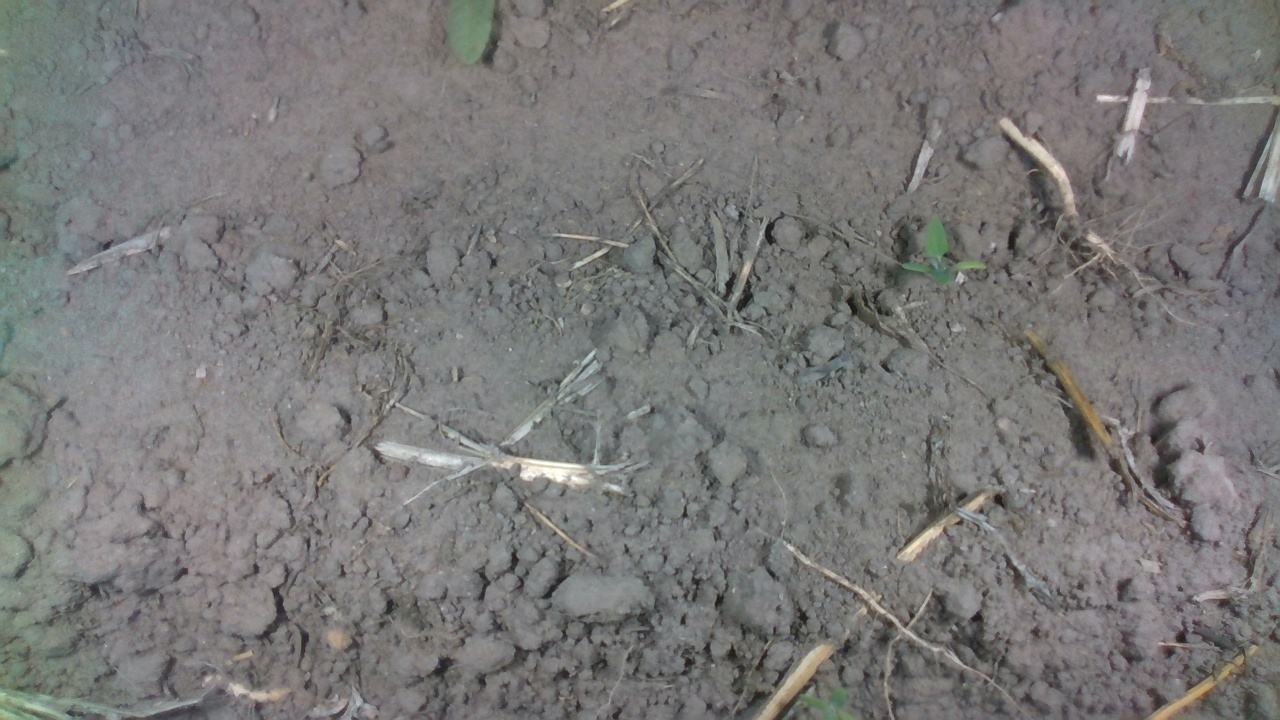weed: (899, 216, 988, 291)
